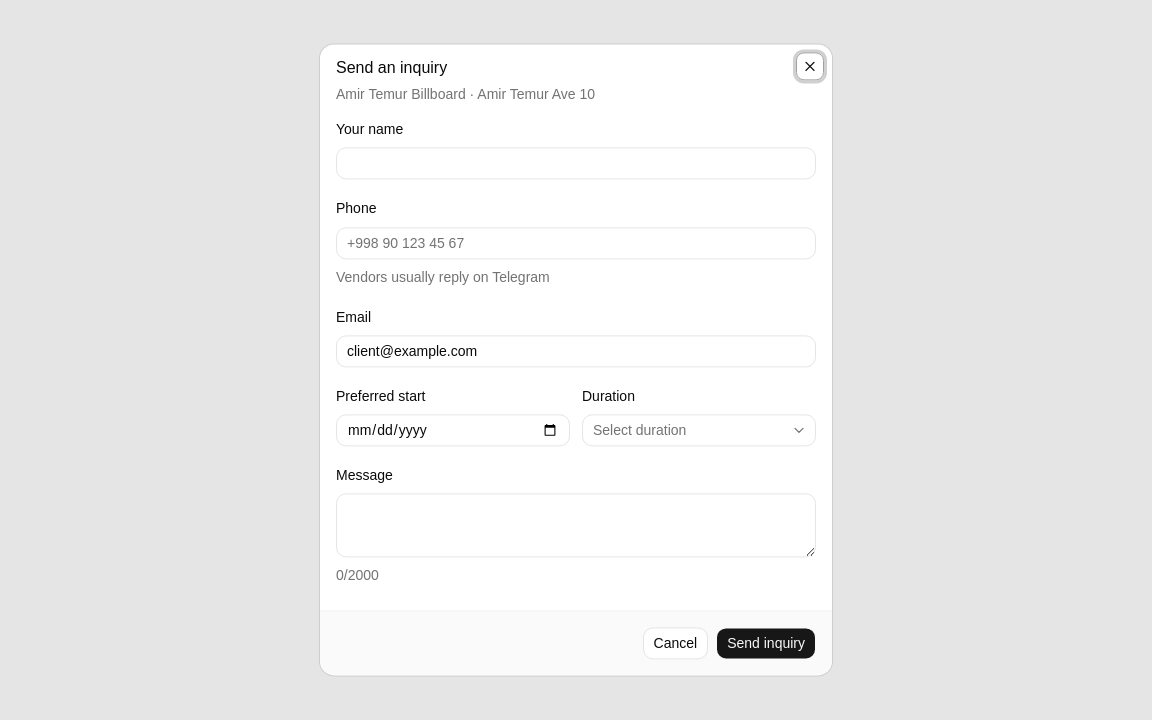
InquiryFormDialog › rejects a non-Uzbek phone number
The image size is (1152, 720).
In the field labelled "Your name": (576, 164) 336,148 -> 816,180, type "Aziza Karimova"
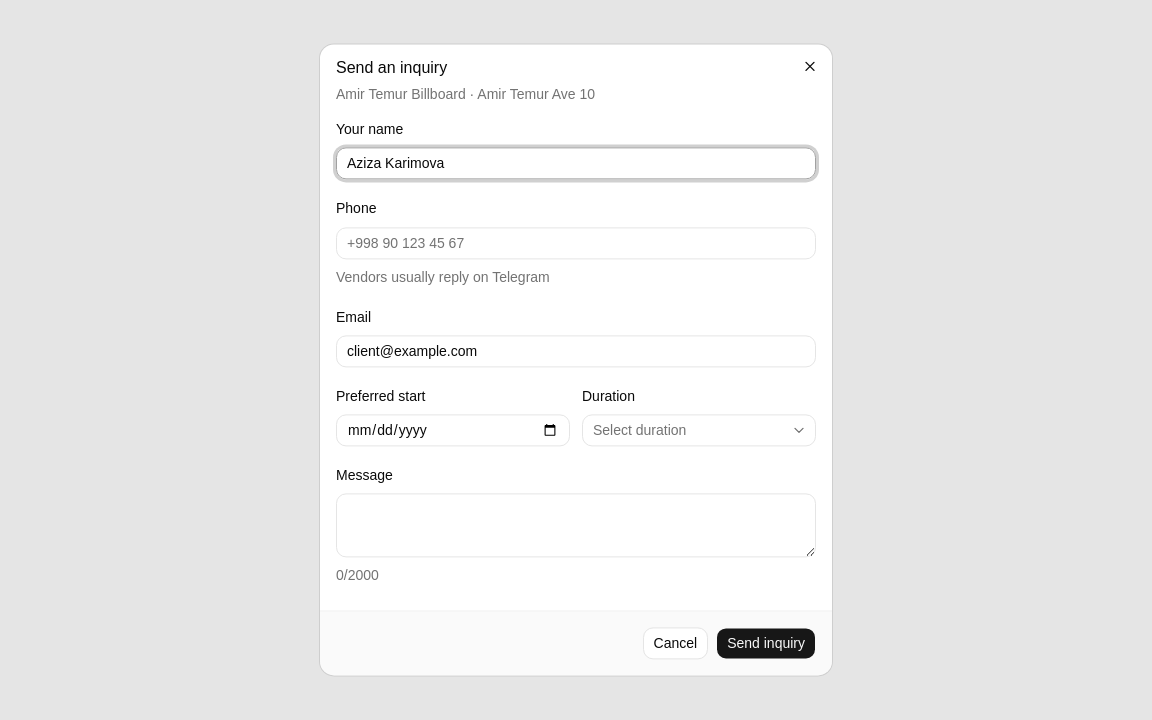
In the field labelled "Phone": (576, 243) 336,227 -> 816,259, type "+7 495 123 45 67"
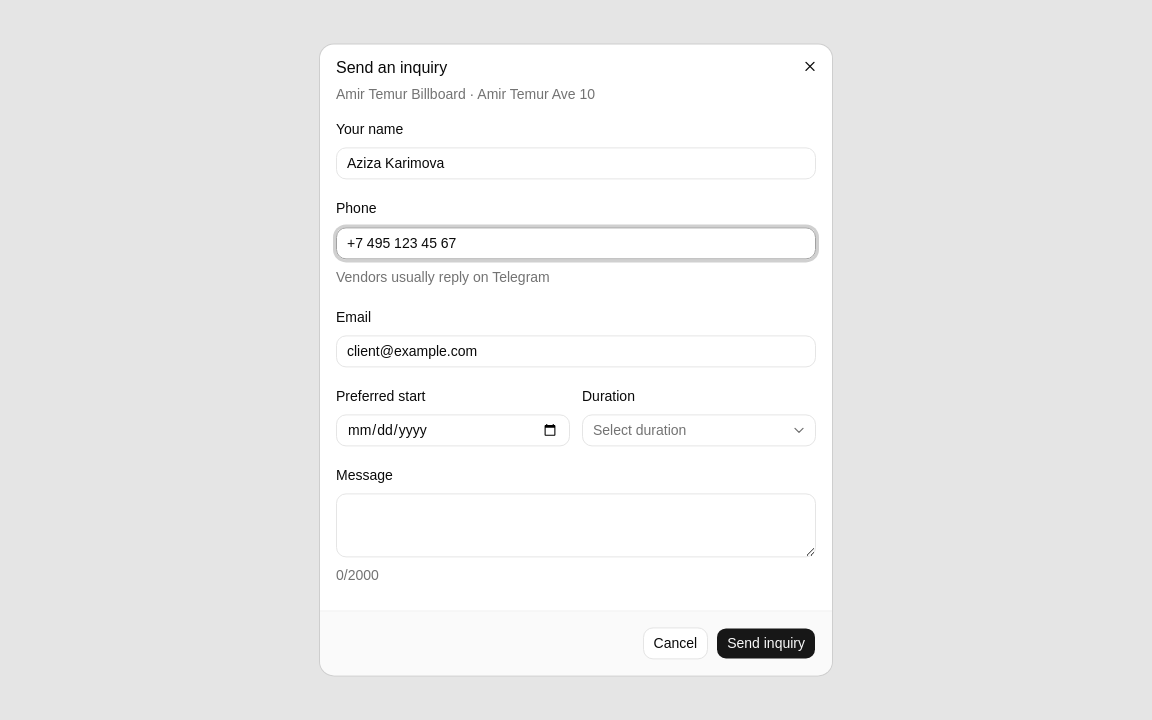
In the text box labelled "Message": (576, 526) 336,494 -> 816,558, type "We would like a two-month campaign here."
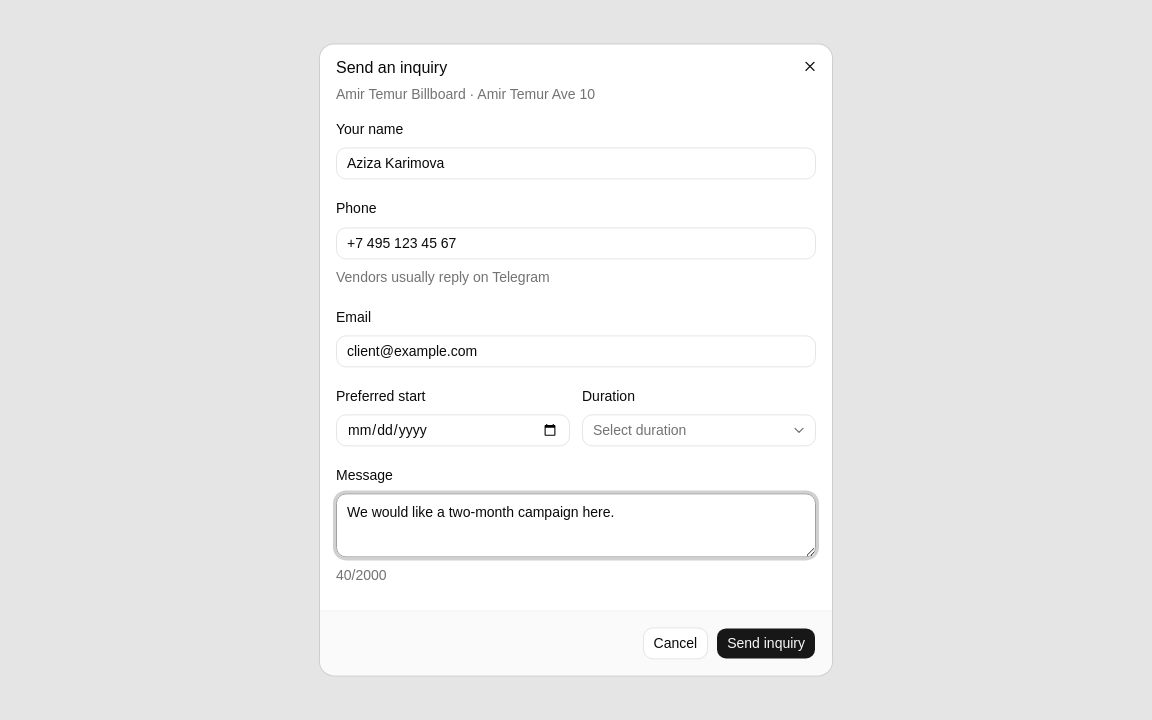
Click the button "Send inquiry": (766, 644) 716,628 -> 816,660
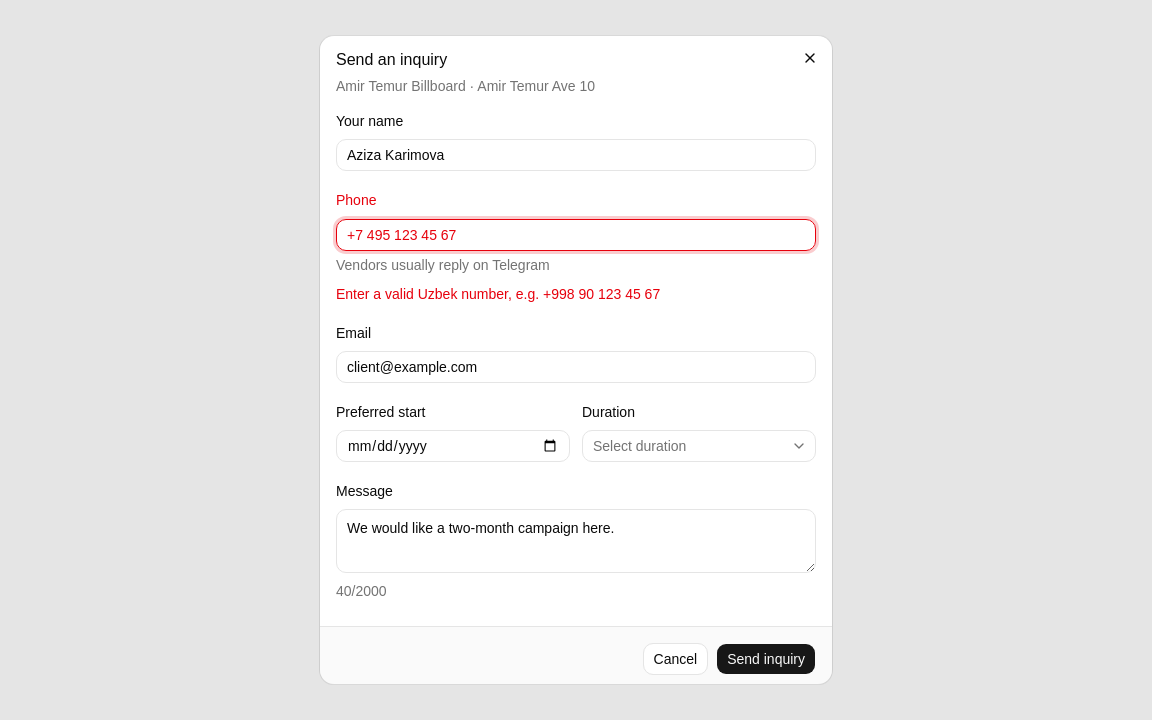
Expected: the text "Enter a valid Uzbek number, e.g. +998 90 123 45 67" is shown, 336,286 -> 660,302
